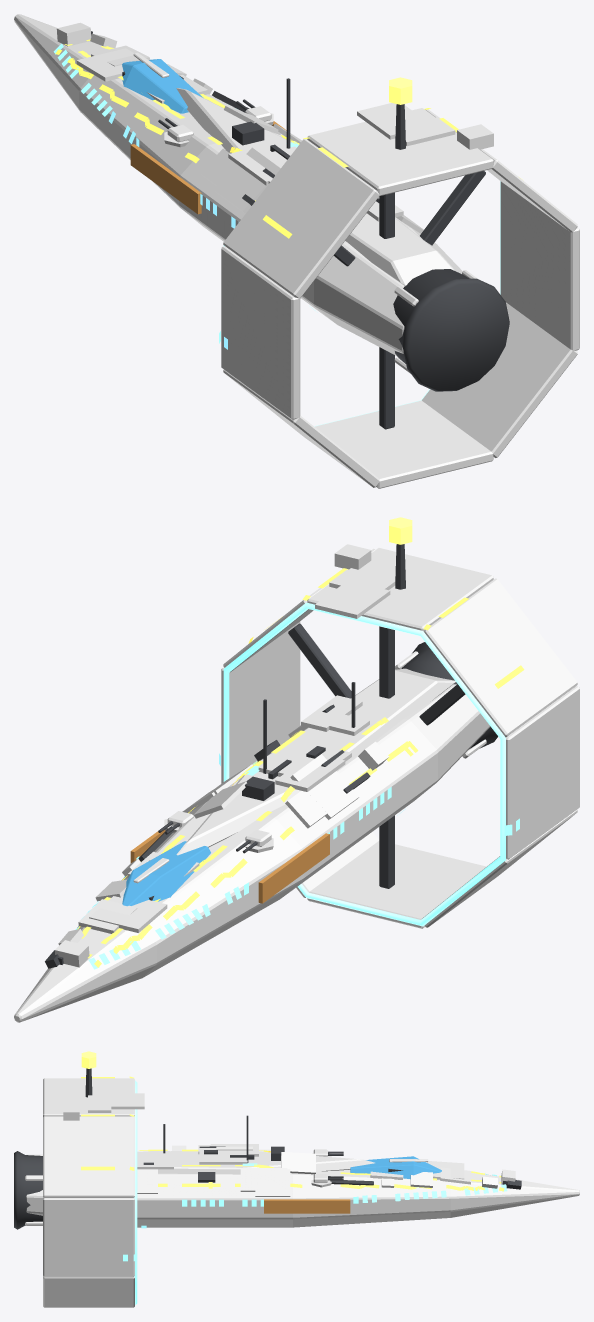
The model's file is iskra.glb.
3 views of the same model, one above another, from view 1: azimuth 30°, elevation 25°; view 2: azimuth 150°, elevation 25°; view 3: azimuth 270°, elevation 25° (orthographic). The views are drawn at different scales.
Parts seen in each view (by area): view 1: Корпус, Кольцевое_крыло.001, Кожух_дюзы, Кольцевое_крыло.002, Накладные_плиты, Кольцевое_крыло.006, Кольцевое_крыло.005, Кольцевое_крыло.004, Кольцевое_крыло, Хребтовая_плита, Кабина, Кольцевое_крыло.003 (+9 smaller); view 2: Корпус, Накладные_плиты, Кольцевое_крыло.001, Кольцевое_крыло.002, Кольцевое_крыло.006, Хребтовая_плита, Кольцевое_крыло.004, Кольцевое_крыло, Кромка_крыла, Разметка, Кабина, Механика (+10 smaller); view 3: Корпус, Кольцевое_крыло.007, Накладные_плиты, Кольцевое_крыло.006, Кольцевое_крыло.005, Кольцевое_крыло, Хребтовая_плита, Кожух_дюзы, Разметка, Полоса, Механика, Кабина (+2 smaller).
Boxes of the visible parts, x1,y1,x2,y2 form: Корпус: [14, 14, 462, 355]; Кольцевое_крыло.001: [223, 139, 379, 298]; Кожух_дюзы: [393, 269, 509, 391]; Кольцевое_крыло.002: [221, 246, 300, 419]; Накладные_плиты: [56, 22, 493, 233]; Кольцевое_крыло.006: [500, 181, 579, 350]; Кольцевое_крыло.005: [422, 302, 577, 457]; Кольцевое_крыло.004: [315, 400, 493, 488]; Кольцевое_крыло: [307, 108, 493, 195]; Хребтовая_плита: [176, 88, 454, 286]; Кабина: [122, 59, 203, 113]; Кольцевое_крыло.003: [223, 370, 379, 487]; Корпус: [14, 684, 490, 1022]; Накладные_плиты: [54, 544, 395, 967]; Кольцевое_крыло.001: [423, 578, 577, 737]; Кольцевое_крыло.002: [506, 686, 579, 859]; Кольцевое_крыло.006: [221, 621, 300, 783]; Хребтовая_плита: [176, 668, 455, 855]; Кольцевое_крыло.004: [307, 841, 486, 928]; Кольцевое_крыло: [307, 548, 493, 630]; Кромка_крыла: [223, 602, 505, 926]; Разметка: [77, 568, 524, 967]; Кабина: [122, 841, 210, 906]; Механика: [45, 682, 370, 968]; Корпус: [26, 1169, 579, 1227]; Кольцевое_крыло.007: [43, 1116, 134, 1197]; Накладные_плиты: [63, 1093, 515, 1196]; Кольцевое_крыло.006: [43, 1197, 134, 1276]; Кольцевое_крыло.005: [43, 1276, 134, 1307]; Кольцевое_крыло: [43, 1078, 134, 1116]; Хребтовая_плита: [137, 1151, 374, 1174]; Кожух_дюзы: [14, 1151, 42, 1229]; Разметка: [81, 1076, 504, 1191]; Полоса: [264, 1199, 350, 1213]; Механика: [143, 1115, 521, 1189]; Кабина: [350, 1156, 441, 1179].
Bounding box in the file's own units: 0.7556 × 0.902 × 1.97.
